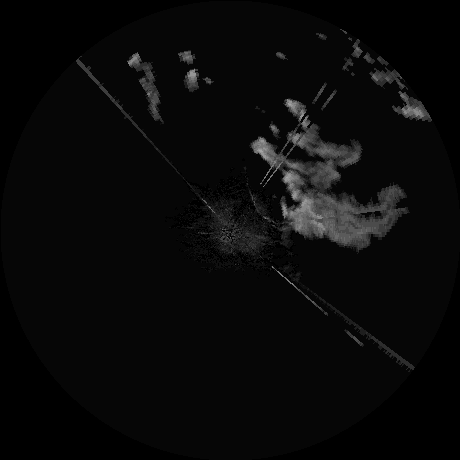frontgust: (247, 189, 294, 231)
